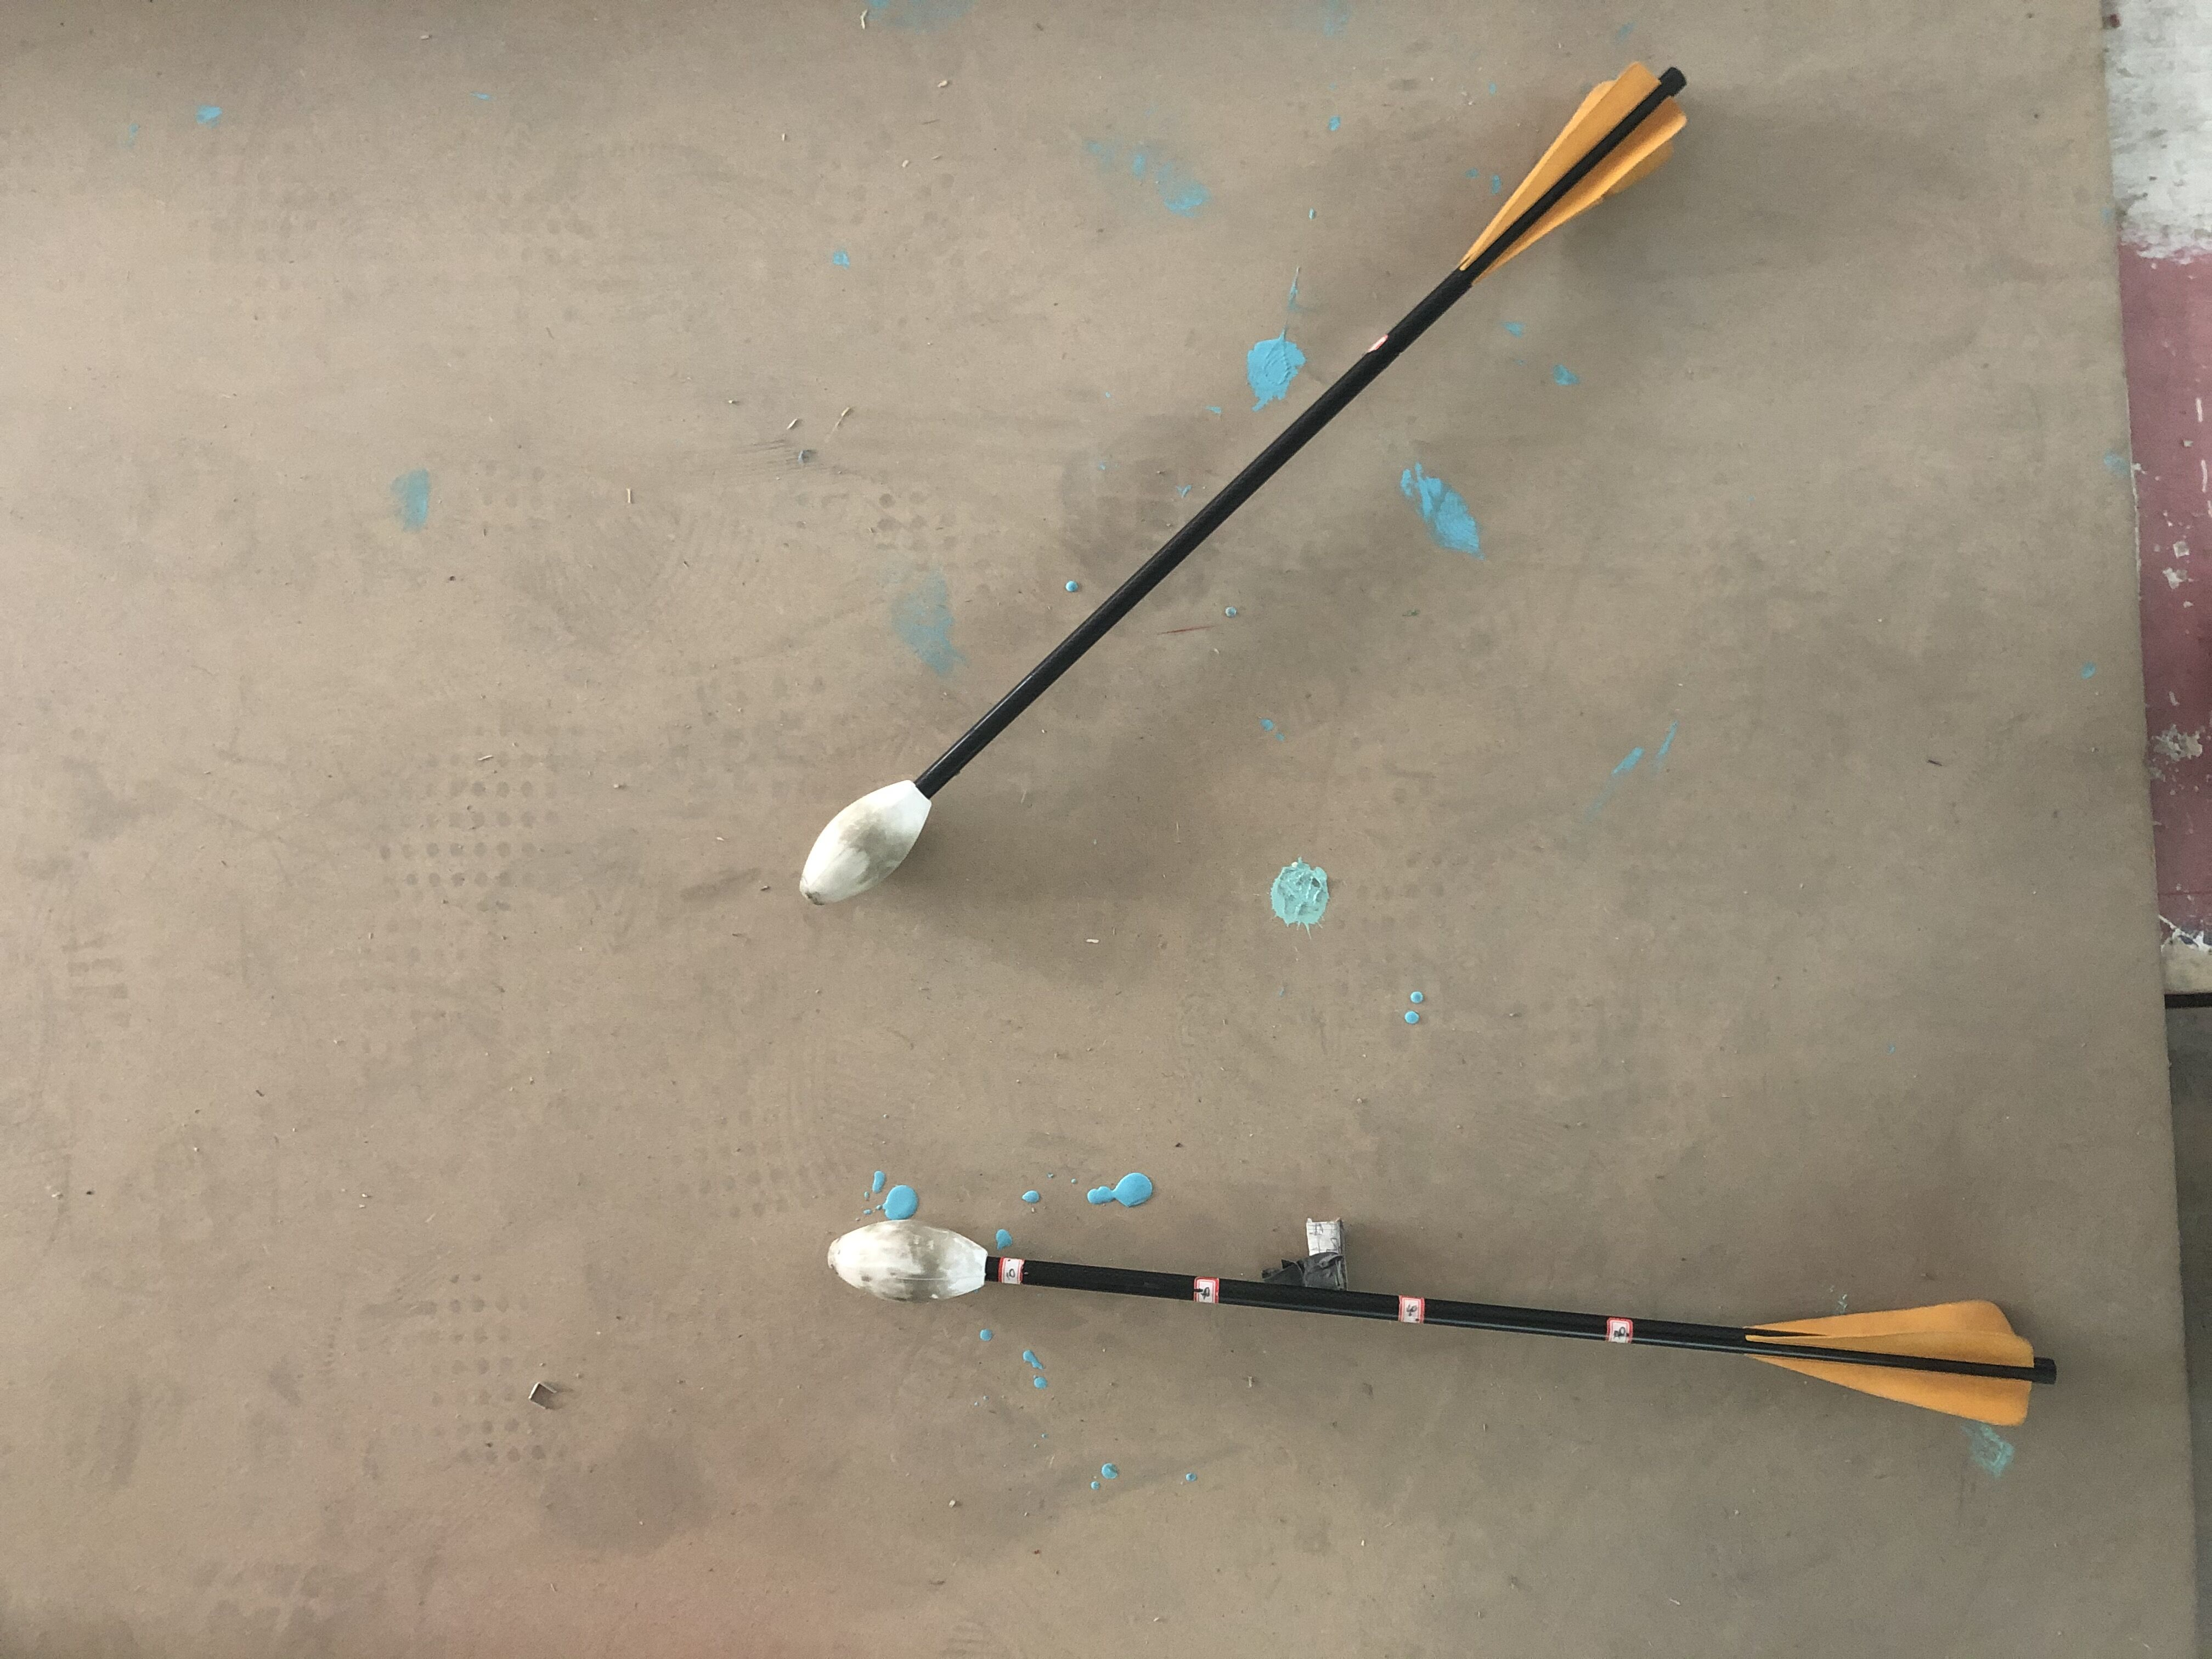arrow: (799, 64, 1693, 906), (826, 1222, 2057, 1427)
arrowFront: (803, 777, 932, 906), (822, 1220, 993, 1304)
